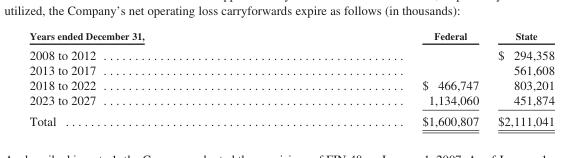table: (28, 29, 553, 127)
table column: (28, 29, 282, 127), (282, 29, 487, 127), (487, 29, 553, 127)
table column header: (28, 29, 553, 44)
table row: (28, 44, 553, 62), (28, 92, 553, 110), (28, 110, 553, 127), (28, 29, 553, 44), (28, 62, 553, 77), (28, 77, 553, 92)
